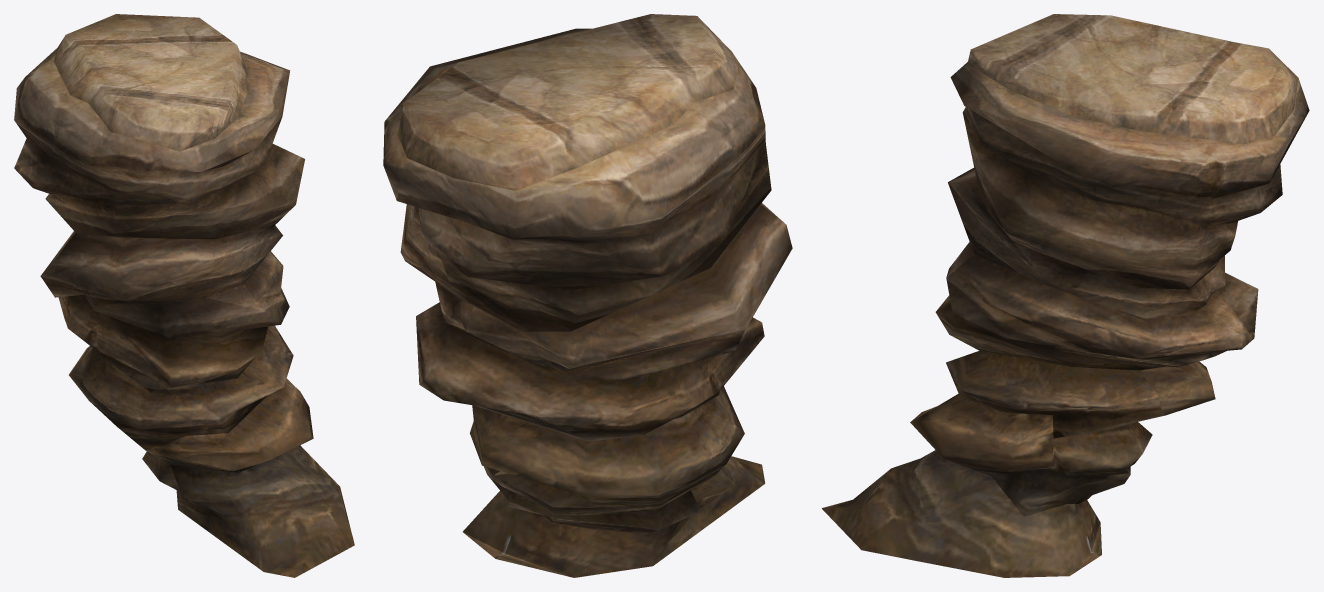
File: SC_tamalagebi_shitou01.FBX
3 renders of one model, left to right at view 1: azimuth 30°, elevation 25°; view 2: azimuth 150°, elevation 25°; view 3: azimuth 270°, elevation 25°, orthographic. The views are drawn at different scales.
Visible parts, largest first — view 1: SC_tamalagebi_shitou01; view 2: SC_tamalagebi_shitou01; view 3: SC_tamalagebi_shitou01.
Part boxes in pixels (x1,y1,x2,y2): SC_tamalagebi_shitou01: [14, 14, 354, 577]; SC_tamalagebi_shitou01: [383, 14, 792, 577]; SC_tamalagebi_shitou01: [822, 14, 1309, 577].
Size of the model in its own units: 479 by 741 by 713.
